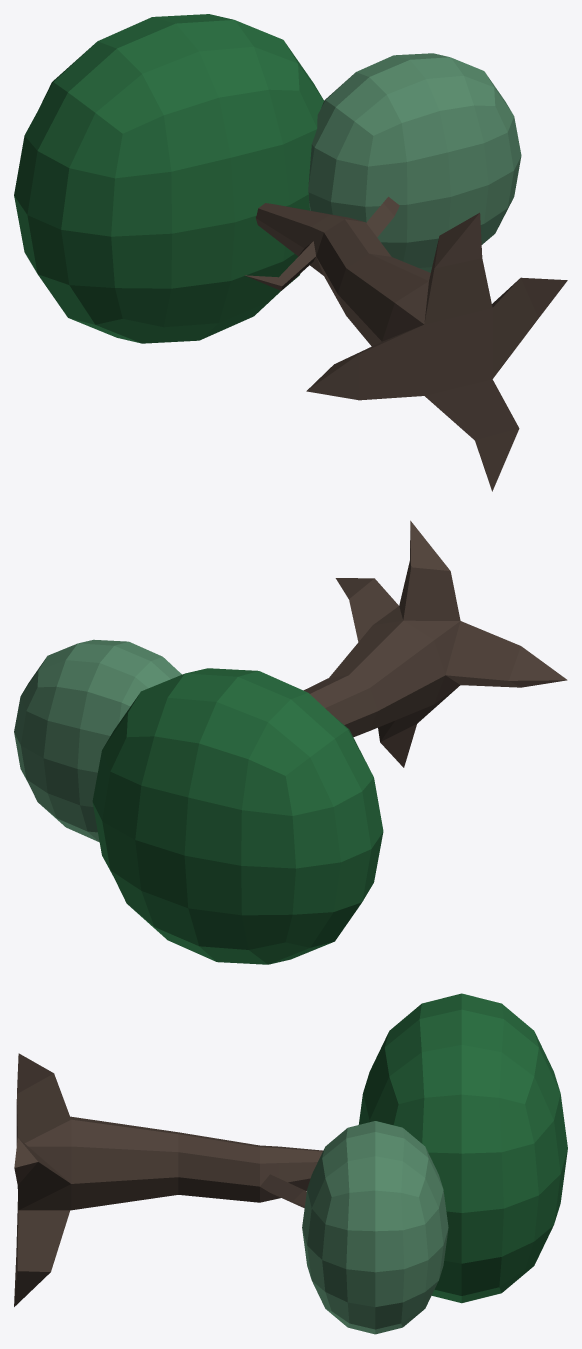
File: tree_3_disturb.fbx
The picture shows the model from 3 angles, top to bottom: view 1: azimuth 30°, elevation 25°; view 2: azimuth 150°, elevation 25°; view 3: azimuth 270°, elevation 25°; orthographic projection. The views are drawn at different scales.
Visible parts, largest first — view 1: Cube; view 2: Cube; view 3: Cube.
Boxes of the visible parts, box(x1,y1,x2,y2) form: Cube: box(14, 14, 567, 491); Cube: box(14, 520, 567, 964); Cube: box(14, 993, 567, 1334).
Size of the model in its own units: 85255 by 57953 by 104841.
